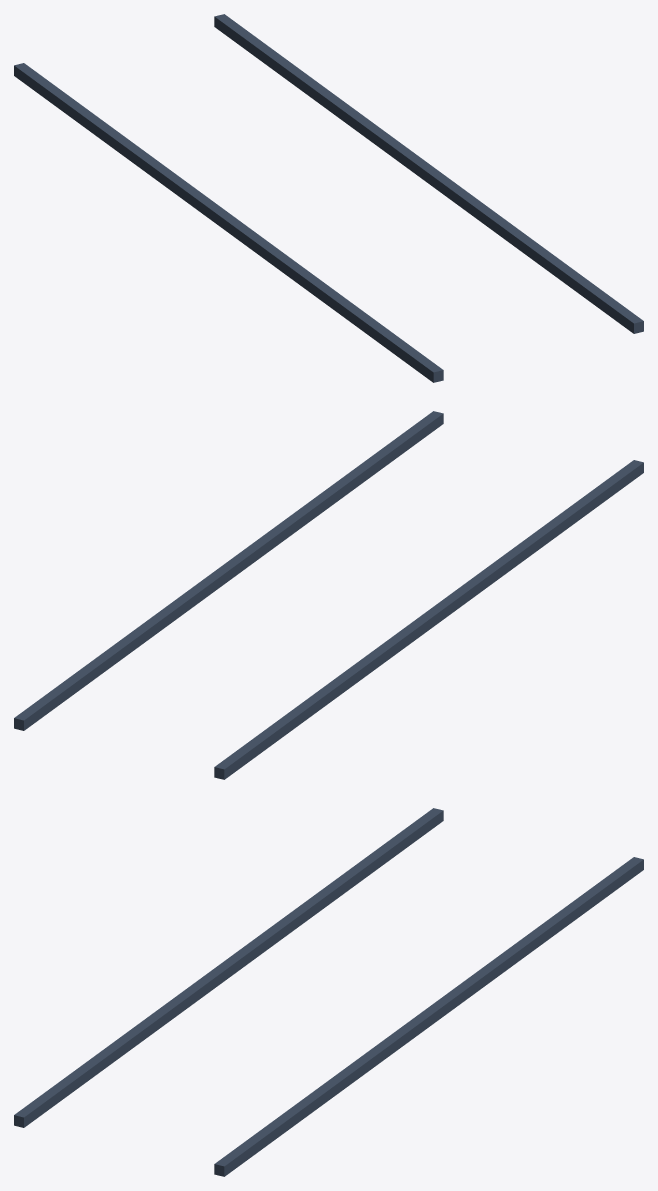
Rendered from kc1000_mounts.obj.
3 renders of one model, top to bottom at view 1: azimuth 30°, elevation 25°; view 2: azimuth 150°, elevation 25°; view 3: azimuth 330°, elevation 25°, orthographic.
Visible parts, largest first — view 1: kc1000_mounts; view 2: kc1000_mounts; view 3: kc1000_mounts.
Boxes of the visible parts, x1=… form: kc1000_mounts: x1=14, y1=14, x2=643, y2=382; kc1000_mounts: x1=14, y1=411, x2=643, y2=779; kc1000_mounts: x1=14, y1=808, x2=643, y2=1176.
Size of the model in its own units: 3.36 by 0.16 by 11.6.
